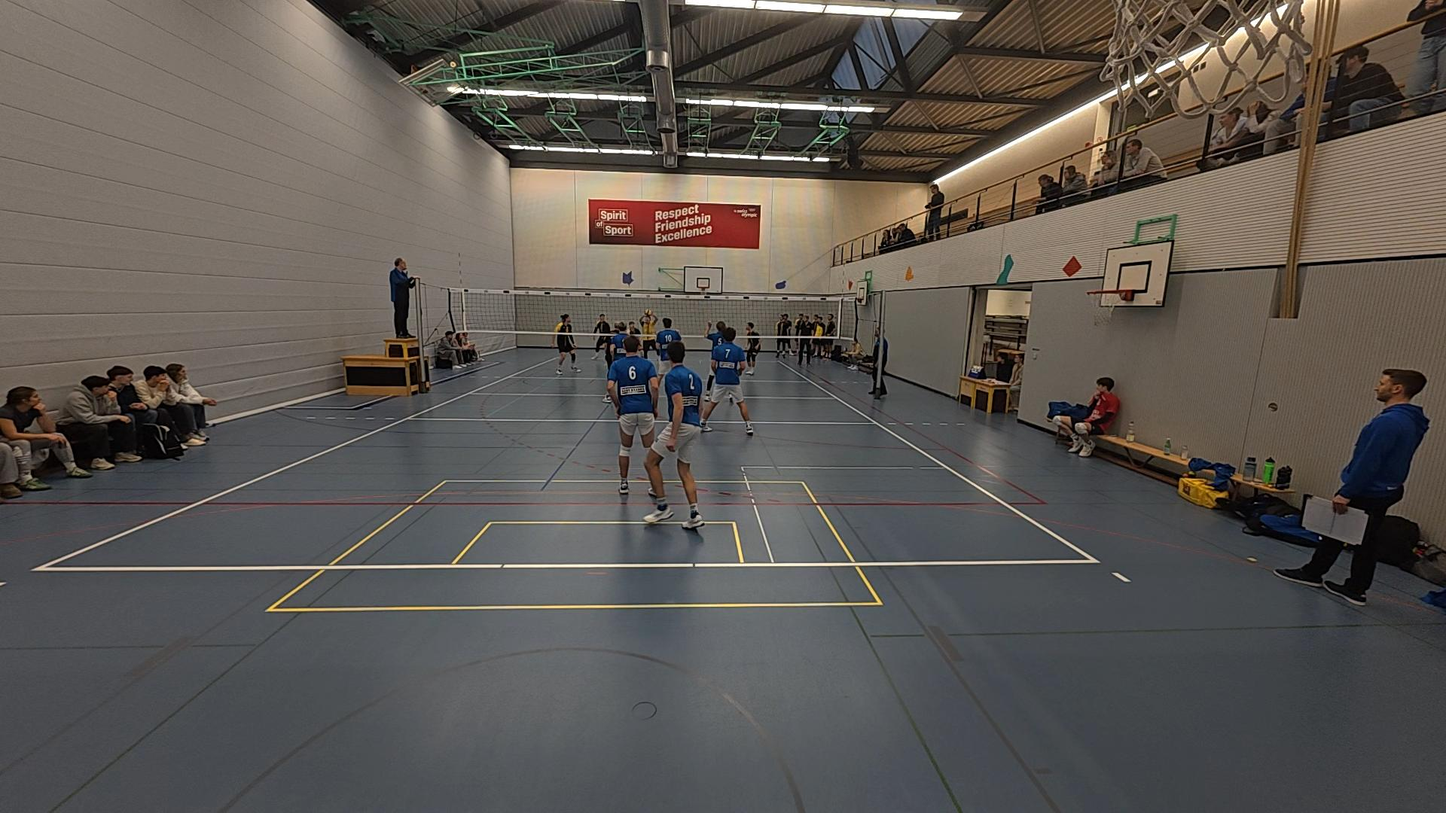ricezione: (638, 308, 664, 365)
